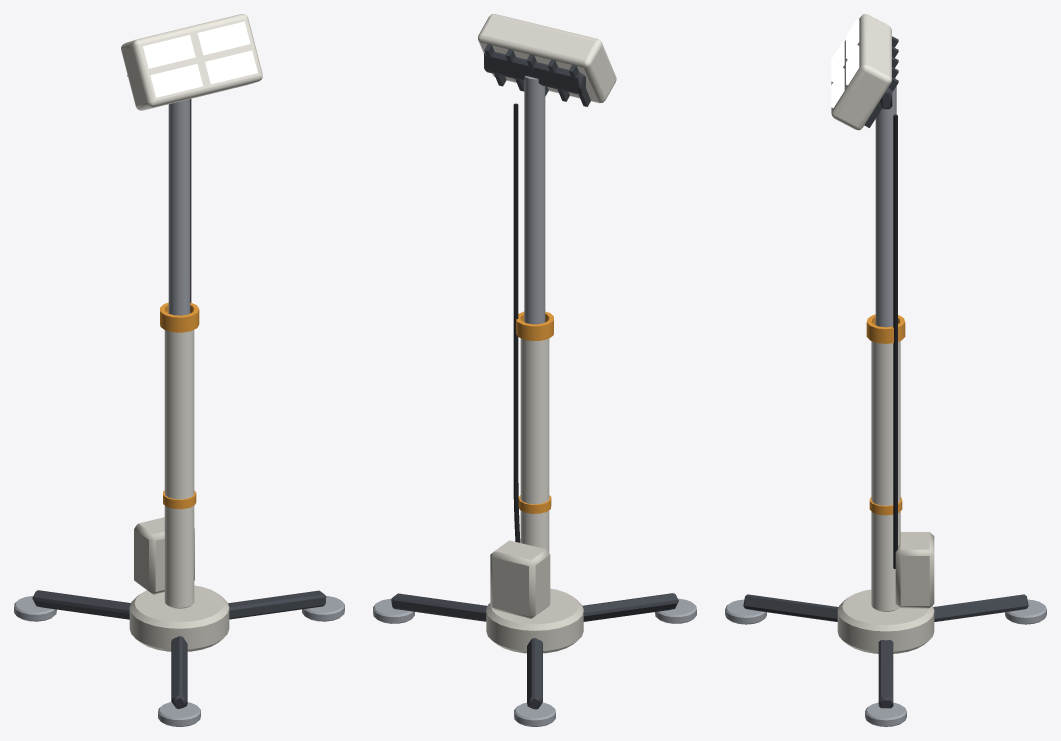
Rendered from light_tower_v4.glb.
The picture shows the model from 3 angles, left to right: view 1: azimuth 30°, elevation 25°; view 2: azimuth 150°, elevation 25°; view 3: azimuth 270°, elevation 25°; orthographic projection. The views are drawn at different scales.
Visible parts, largest first — view 1: body; view 2: body; view 3: body.
Part boxes in pixels (left/top/right/bottom): body: left=14, top=14, right=344, bottom=726; body: left=373, top=14, right=696, bottom=726; body: left=725, top=14, right=1046, bottom=726.
Bounding box in the file's own units: 1.76 × 4.17 × 1.99.
